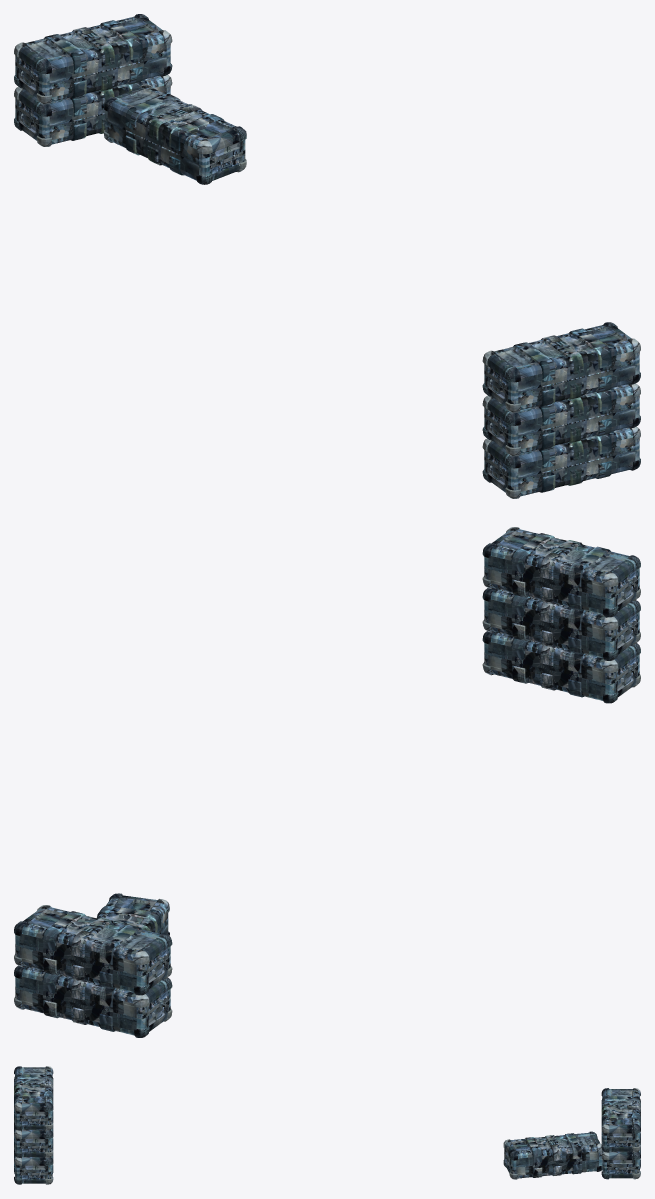
The model's file is futuristic_room_13.obj.
3 renders of one model, top to bottom at view 1: azimuth 30°, elevation 25°; view 2: azimuth 150°, elevation 25°; view 3: azimuth 270°, elevation 25°, orthographic. The views are drawn at different scales.
Size of the model in its own units: 0.8941 by 0.8235 by 5.76.
